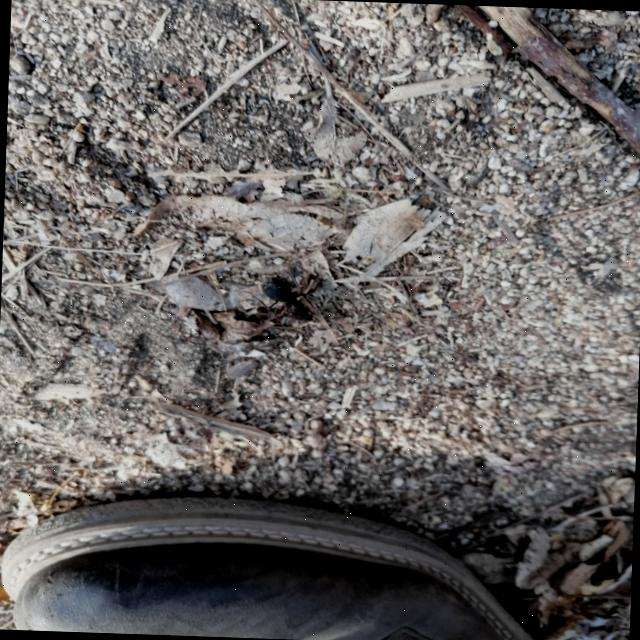Alive-Female-Dealate: (239, 264, 335, 332)
